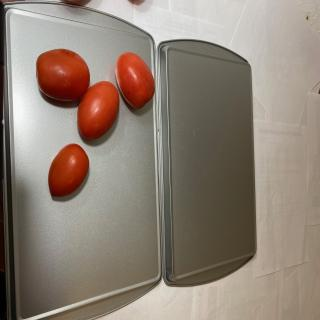Tomato: (36, 48, 90, 102), (77, 80, 119, 140), (115, 52, 155, 109), (48, 143, 89, 197)
